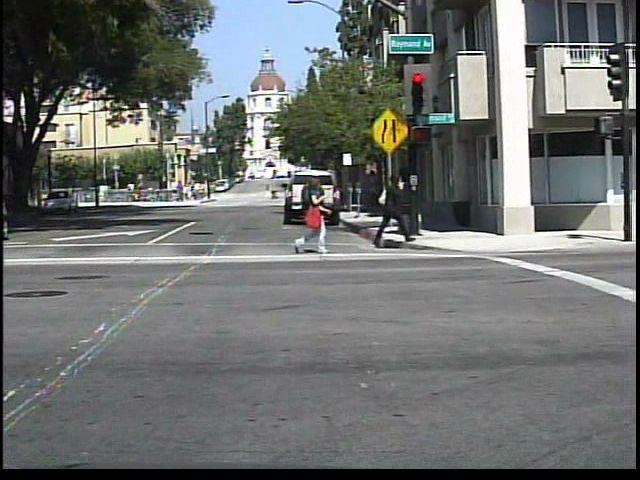person: (288, 172, 333, 256), (370, 168, 414, 251), (270, 187, 281, 203)
